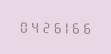four: (28, 19, 38, 33)
one: (61, 20, 71, 34)
six: (50, 19, 60, 34), (72, 20, 82, 34), (83, 20, 93, 34)
two: (39, 19, 49, 33)
zero: (17, 19, 27, 33)
